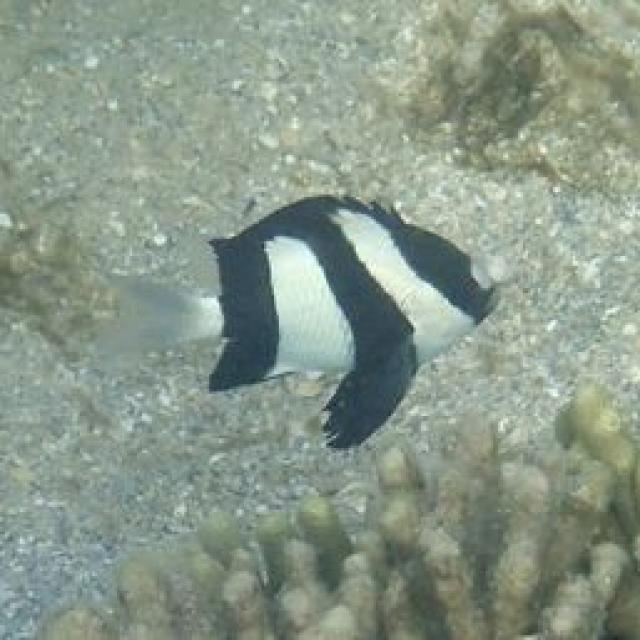Three_striped DasmselFish: (103, 198, 500, 453)
